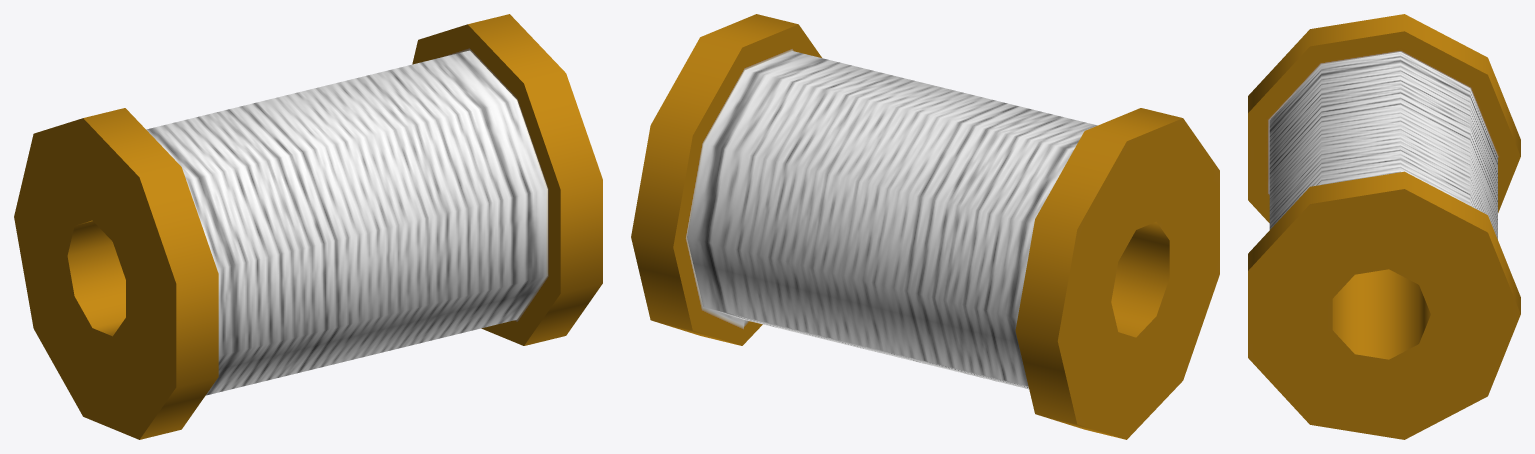
The picture shows the model from 3 angles, left to right: view 1: azimuth 30°, elevation 25°; view 2: azimuth 150°, elevation 25°; view 3: azimuth 270°, elevation 25°; orthographic projection. The views are drawn at different scales.
Visible parts, largest first — view 1: 线绳; view 2: 线绳; view 3: 线绳.
Boxes of the visible parts, x1,y1,x2,y2 form: 线绳: (14,14,602,439); 线绳: (631,14,1219,439); 线绳: (1248,14,1520,439).
Size of the model in its own units: 6.08 by 4.07 by 4.01.
Materials: 1 (1 with a texture image).
